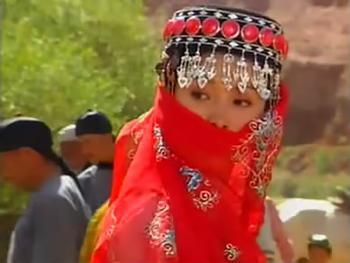WRONG: (165, 69, 268, 163)
